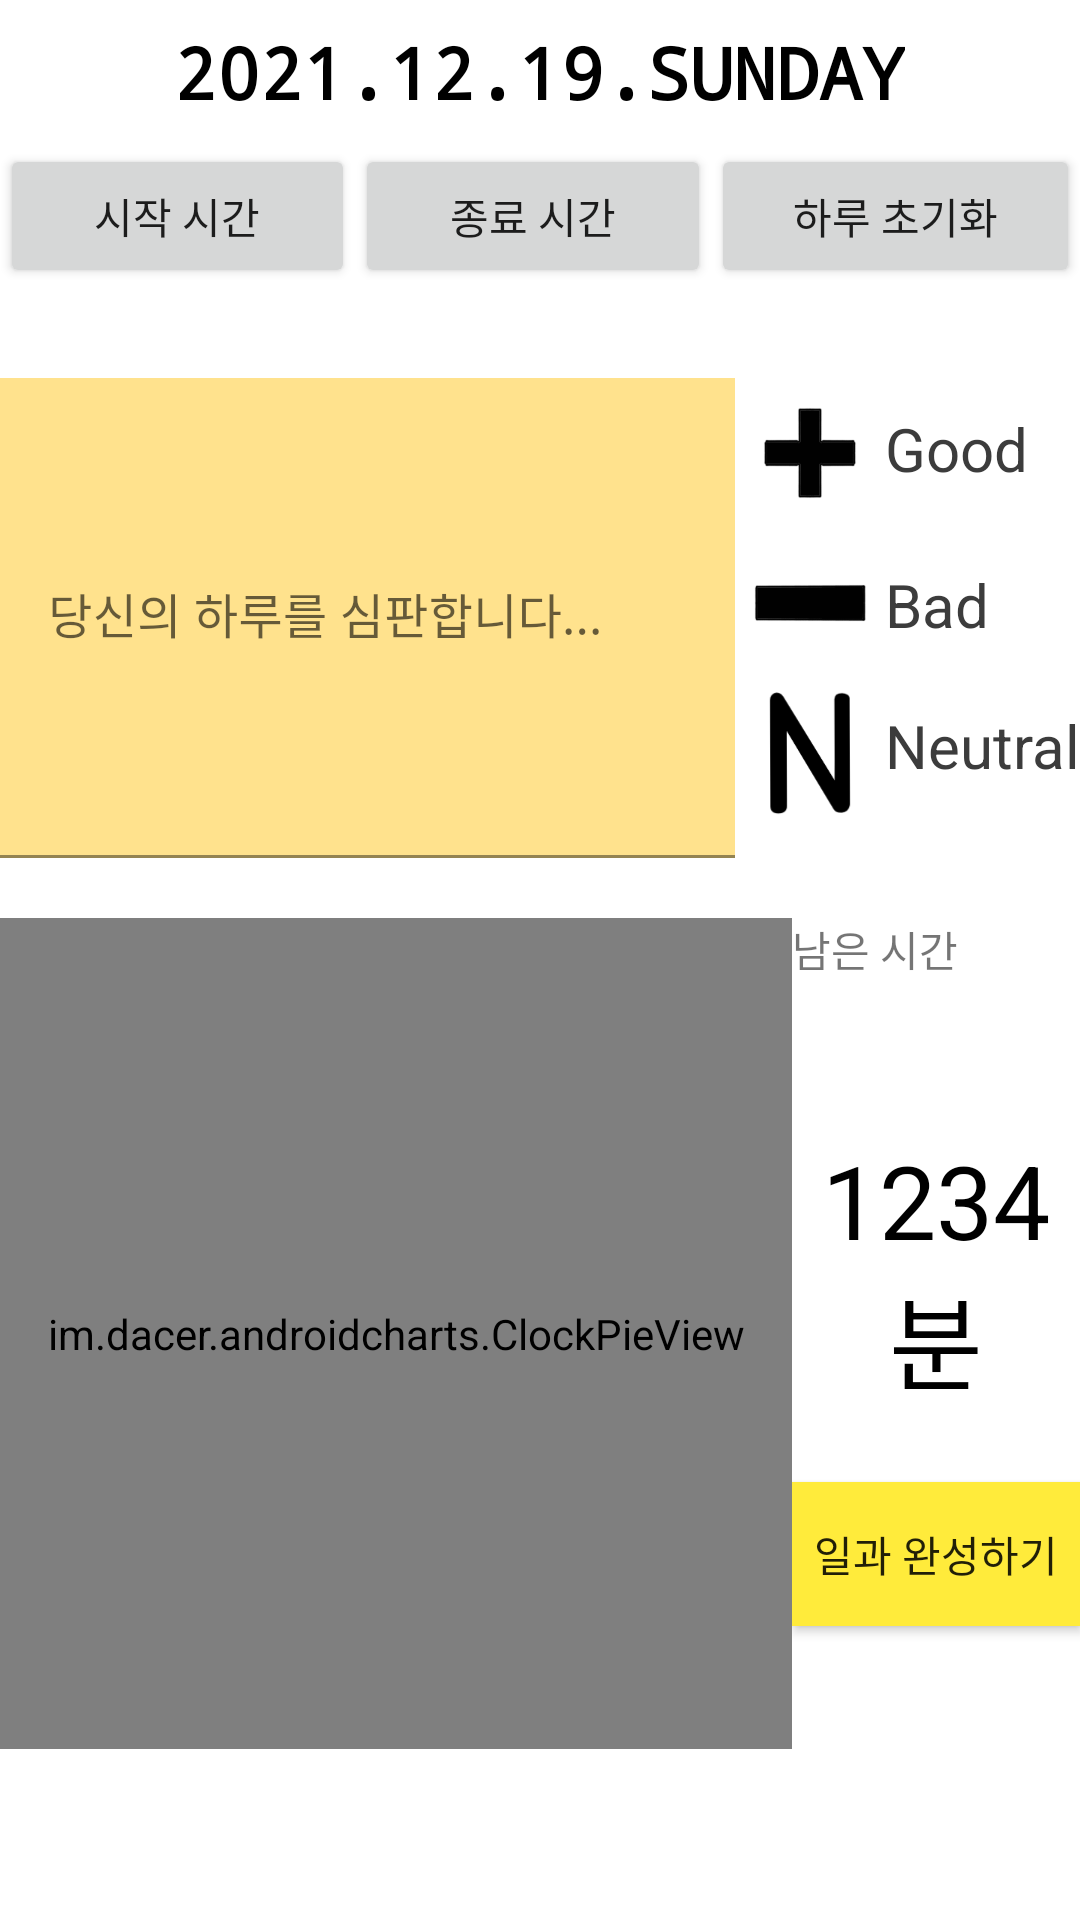

Named icons in this screenshot (1080 × 1920) and their bounding boxes, {"left": x1, "top": y1, "right": x2, "bottom": y2}:
add: {"left": 764, "top": 408, "right": 856, "bottom": 498}
minus: {"left": 755, "top": 585, "right": 866, "bottom": 621}
